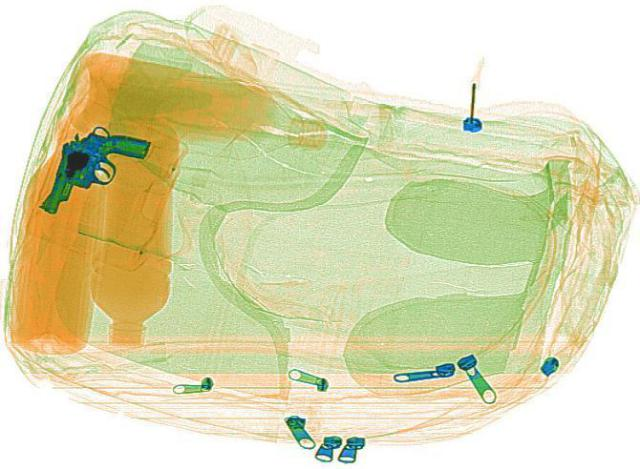Gun: (15, 114, 155, 224)
